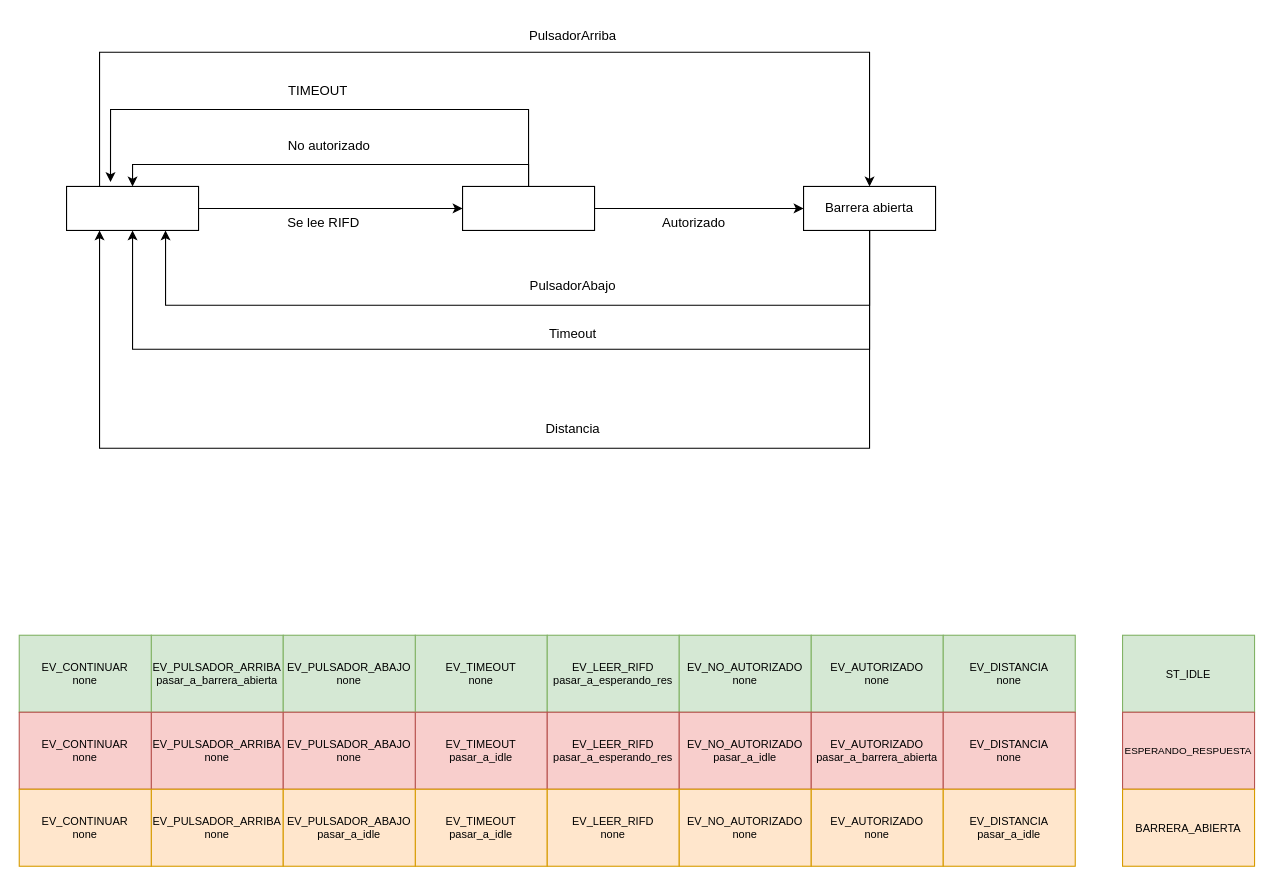
Image size: 1274x886. Some labels were removed from this diagram. Each missing label, with the centre of its shape:
"Esperando respuesta" goes at pixel 528 207.
"Idle" goes at pixel 132 207.
